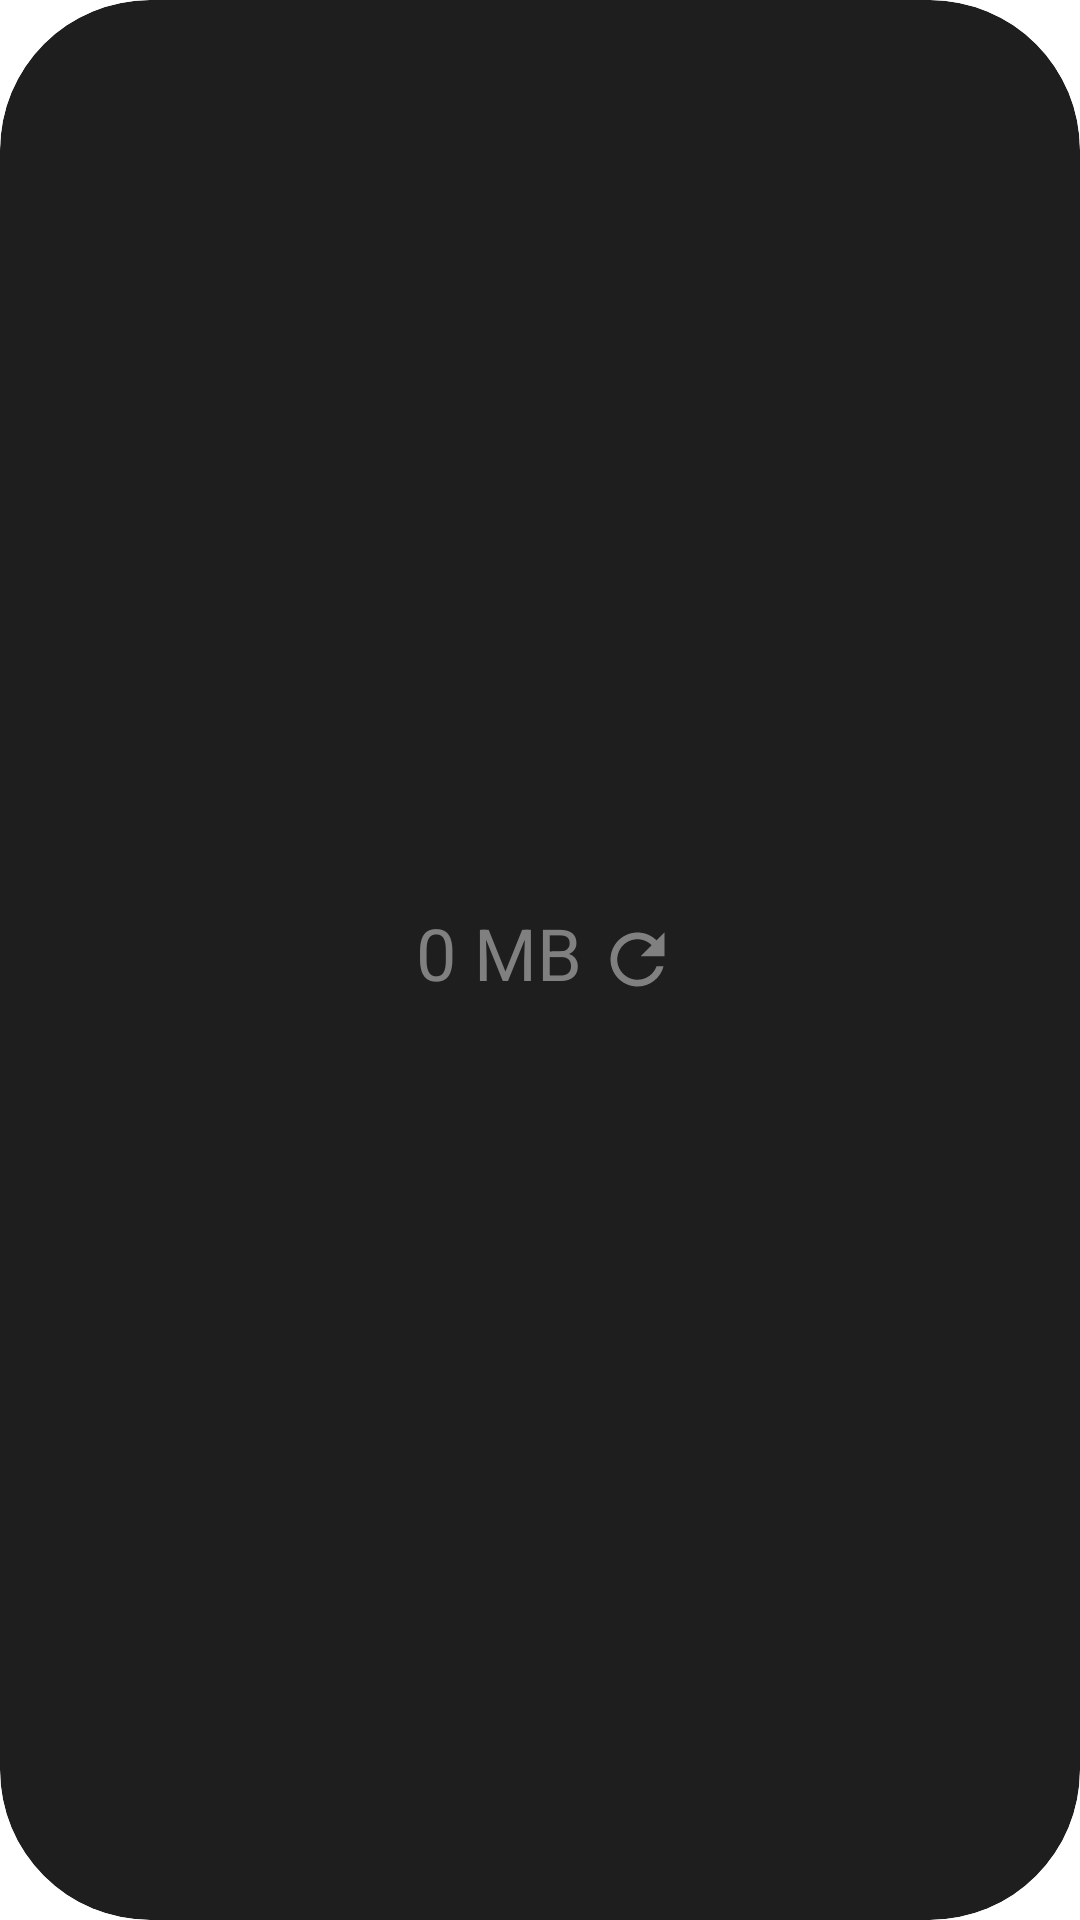

Screen size 1080×1920. Icon name, then its center in pixels as point (x, y):
Refresh: point (637, 959)
